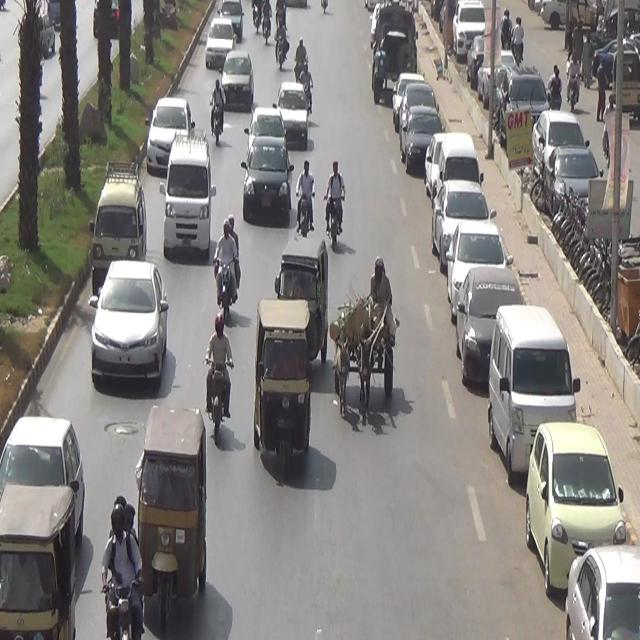car: (86, 249, 170, 390), (0, 413, 91, 529), (84, 158, 152, 285), (158, 133, 214, 260), (146, 96, 192, 167), (198, 20, 238, 73), (221, 49, 255, 109)
motorbike: (102, 491, 142, 640), (206, 311, 234, 436), (216, 209, 242, 319), (322, 158, 346, 257), (206, 75, 232, 155), (296, 158, 318, 245), (294, 36, 309, 91)
truck: (332, 252, 403, 439)
